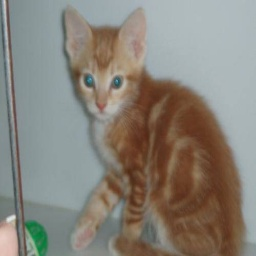cat: (67, 6, 246, 254)
